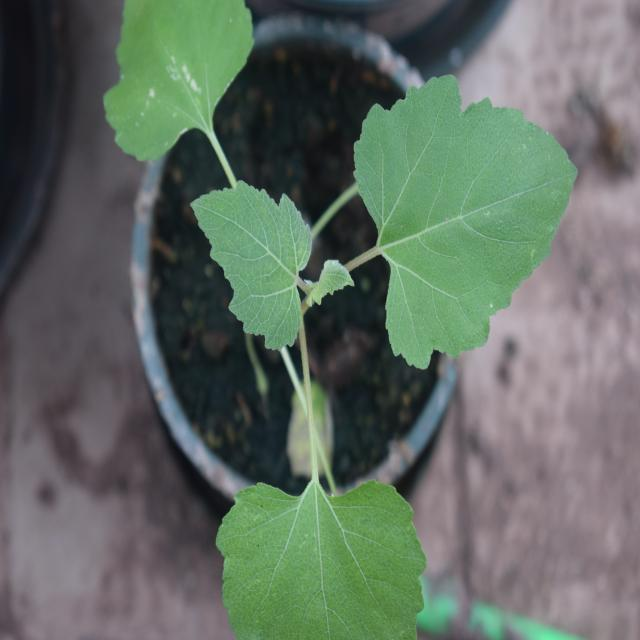cocklebur: (105, 1, 562, 619)
